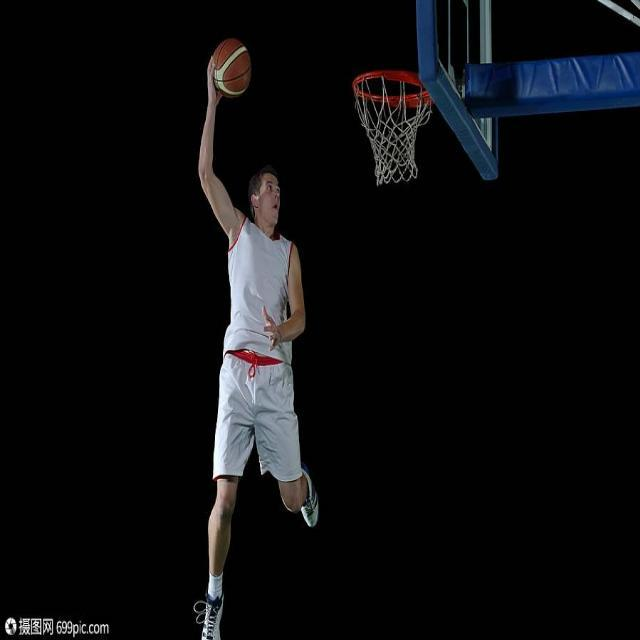rim: (211, 42, 253, 98)
